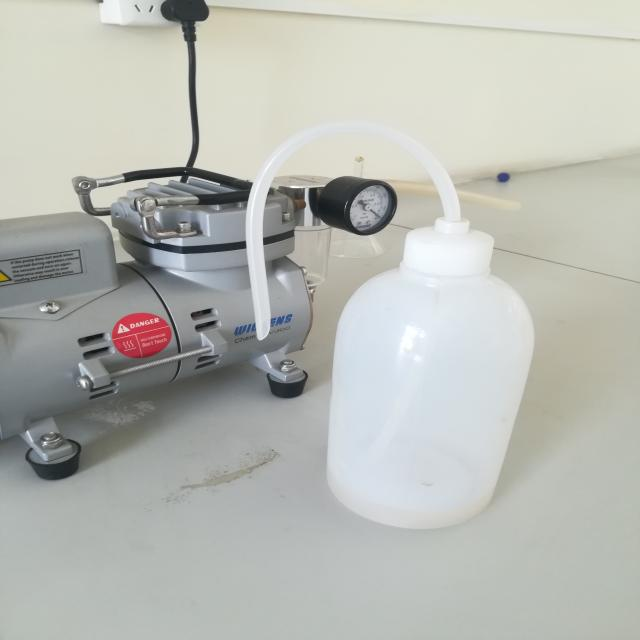Wash_Bottle: (220, 88, 557, 551)
